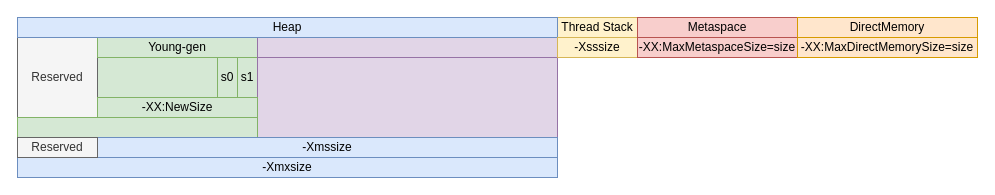
The diagram is 995 pixels wide and 195 high, and some of its shapes have lost their labels. The box of each missing label's shape, as (x1, y1, x2, y2) in pixels:
-XX:MaxNewSize / -Xmnsize: (16, 116, 258, 138)
EdenSpace: (96, 56, 218, 98)
Old: (256, 56, 558, 138)
Old-gen: (256, 36, 558, 58)
